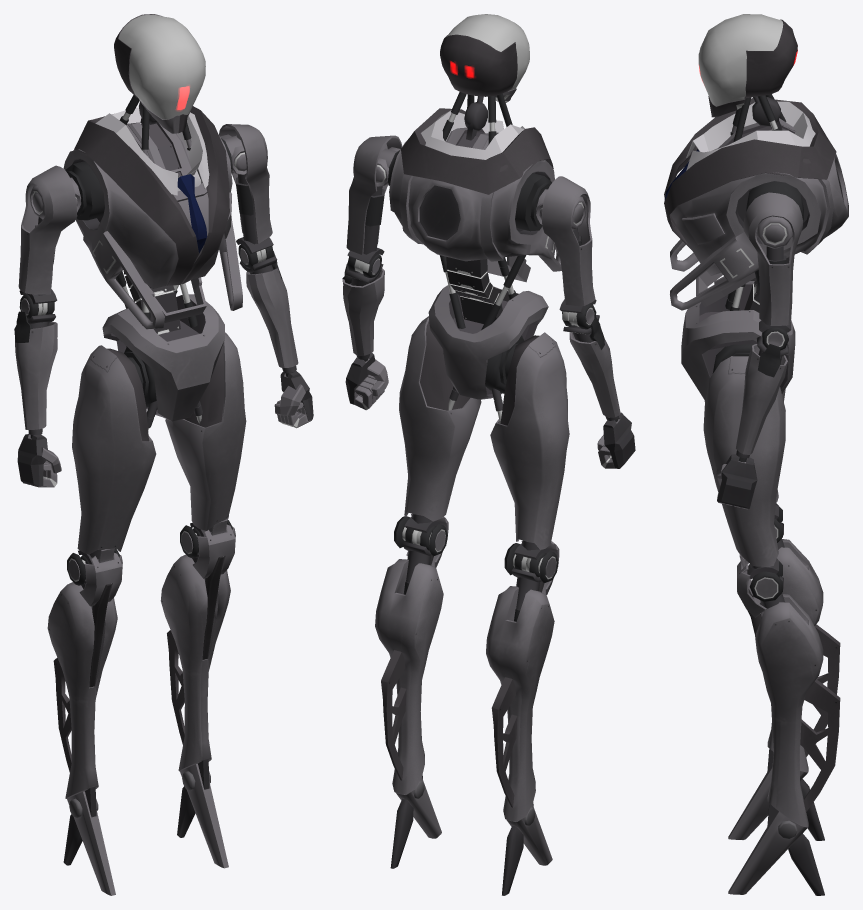
The model's file is Suit.Ctrl+J.fbx.
3 views of the same model, side by side, from view 1: azimuth 30°, elevation 25°; view 2: azimuth 150°, elevation 25°; view 3: azimuth 270°, elevation 25° (orthographic). The views are drawn at different scales.
Parts seen in each view (by area): view 1: Head, Chest, Arm, pelvis, Hand, Bone; view 2: Head, Chest, Arm, Hand, pelvis, Bone; view 3: Head, Chest, Arm, pelvis, Hand, Bone.
Part boxes in pixels (<box>): Head: <box>47,14,246,798</box>; Chest: <box>63,135,242,895</box>; Arm: <box>15,107,298,429</box>; pelvis: <box>79,122,235,606</box>; Hand: <box>17,95,313,487</box>; Bone: <box>14,173,296,610</box>; Head: <box>375,14,569,821</box>; Chest: <box>389,138,561,895</box>; Arm: <box>342,110,620,417</box>; Hand: <box>345,92,635,468</box>; pelvis: <box>406,127,559,594</box>; Bone: <box>342,186,618,621</box>; Head: <box>664,14,840,827</box>; Chest: <box>670,149,848,895</box>; Arm: <box>682,101,815,454</box>; pelvis: <box>664,118,796,617</box>; Hand: <box>696,94,803,509</box>; Bone: <box>736,246,791,611</box>.
Size of the model in its own units: 138 by 399 by 78.68.
Materials: 6 (6 with a texture image).
